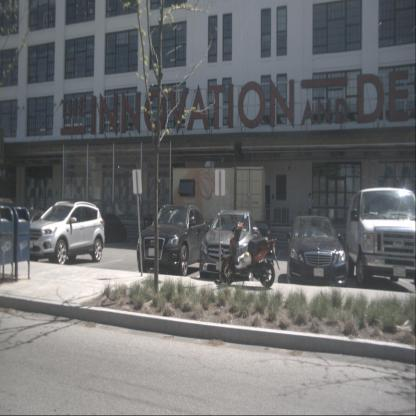human-pedestrian-adult: (307, 193, 313, 224)
vehicle-car: (345, 186, 416, 291), (136, 203, 213, 277), (25, 200, 106, 266), (286, 214, 349, 288), (199, 208, 261, 280), (92, 212, 128, 243), (244, 219, 273, 256)
vehicle-motorcycle: (220, 213, 276, 289)
